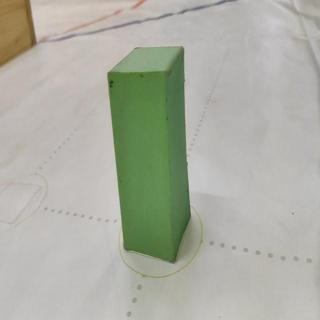greenbox: (105, 44, 192, 266)
